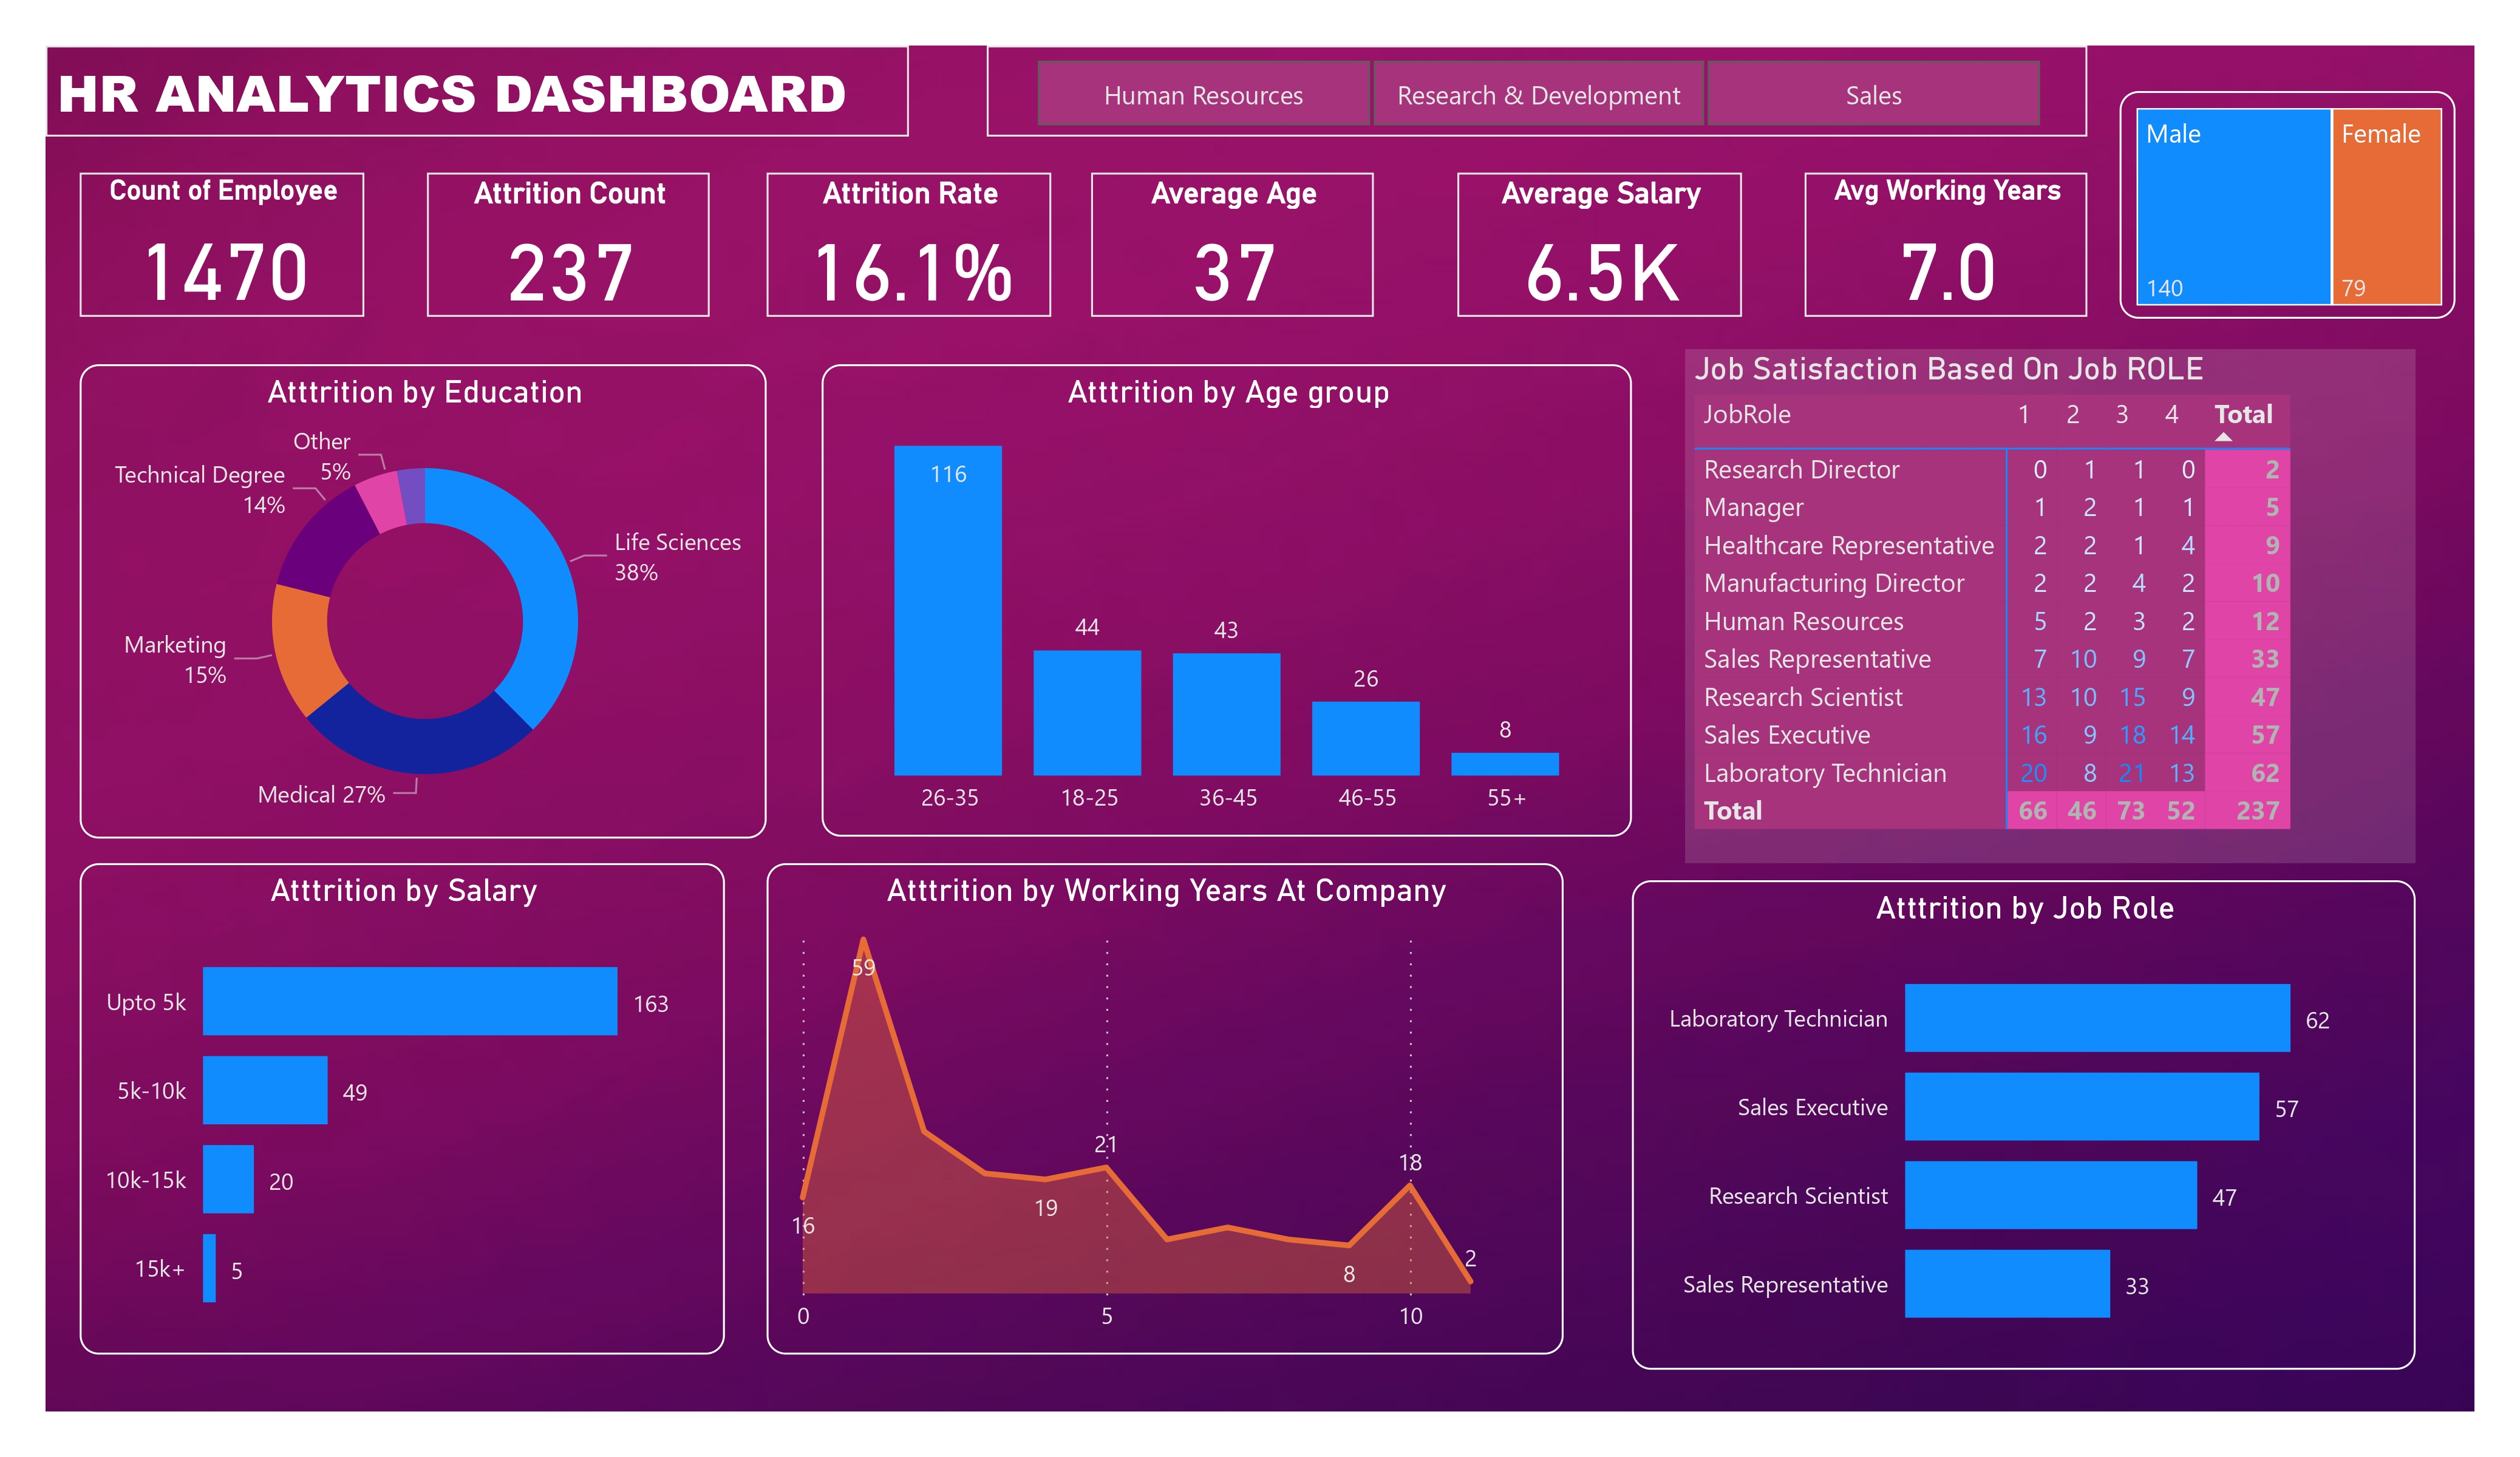

This screenshot's page, from the dashboard's own definition file:
{"tool":"powerbi","page":{"name":"Analytics Dashboard","canvas":[1280,720],"ordinal":0},"visuals":[{"type":"card","title":"Count Of Employee","fields":{"Values":["Measure Table.Total emp count"]},"box":[28.6,60,150,74.3],"z":0},{"type":"card","title":"Total Attrition","fields":{"Values":["Measure Table.yes attrition"]},"box":[205.1,60,150,74.3],"z":1000},{"type":"card","title":"Attrition Rate","fields":{"Values":["Measure Table.Attrition Rate"]},"box":[381.7,60,150,74.3],"z":2000},{"type":"card","title":"Avg Age","fields":{"Values":["Measure Table.emp avg age"]},"box":[558.3,60,151.4,74.3],"z":3000},{"type":"card","title":"Avg Salary","fields":{"Values":["Measure Table.emp avg salary"]},"box":[736.3,60,151.4,74.3],"z":4000},{"type":"card","title":"Avg Retention Year","fields":{"Values":["Measure Table.work year avg"]},"box":[914.3,60,150,74.3],"z":5000},{"type":"donutChart","title":"Attrition By Education","fields":{"Category":["HR_Analytics.EducationField"],"Y":["Measure Table.yes attrition"]},"box":[28.6,167.1,338.6,244.3],"z":6000},{"type":"clusteredColumnChart","title":"Attrition By Age","fields":{"Category":["HR_Analytics.AgeGroup"],"Y":["Measure Table.yes attrition"]},"box":[922.9,167.1,338.6,244.3],"z":7000},{"type":"pivotTable","title":"Job satisfaction by Attrition","fields":{"Rows":["HR_Analytics.JobRole"],"Columns":["HR_Analytics.JobSatisfaction"],"Values":["Sum(HR_Analytics.AttritionCount)"]},"box":[408.6,167.1,468.6,244.3],"z":8000},{"type":"barChart","title":"Attrition on Salary Slab","fields":{"Category":["HR_Analytics.SalarySlab"],"Y":["Sum(HR_Analytics.AttritionCount)"]},"box":[28.6,458.6,338.6,244.3],"z":9000},{"type":"areaChart","title":"Attrition By Years of Experience","fields":{"Category":["HR_Analytics.YearsAtCompany"],"Y":["Sum(HR_Analytics.AttritionCount)"]},"box":[408.6,458.6,468.6,244.3],"z":10000},{"type":"barChart","title":"Attrition By Job Role","fields":{"Y":["Sum(HR_Analytics.AttritionCount)"],"Category":["HR_Analytics.JobRole"]},"box":[918.6,458.6,347.1,244.3],"z":11000},{"type":"treemap","title":"Attrition By Gender","fields":{"Group":["HR_Analytics.Gender"],"Values":["Sum(HR_Analytics.AttritionCount)"]},"box":[1082.9,15.7,178.6,118.6],"z":12000},{"type":"slicer","fields":{"Values":["HR_Analytics.Department"]},"box":[522.9,0,560,54.3],"z":13000},{"type":"textbox","box":[41.4,0,474.3,75.7],"z":14000}]}

Visuals, with their boxes in screenshot pixels (x1, y1, x2, y2):
"Count Of Employee" card: {"x1": 100, "y1": 159, "x2": 384, "y2": 301}
"Total Attrition" card: {"x1": 435, "y1": 159, "x2": 720, "y2": 301}
"Attrition Rate" card: {"x1": 770, "y1": 159, "x2": 1055, "y2": 301}
"Avg Age" card: {"x1": 1105, "y1": 159, "x2": 1392, "y2": 301}
"Avg Salary" card: {"x1": 1443, "y1": 159, "x2": 1730, "y2": 301}
"Avg Retention Year" card: {"x1": 1780, "y1": 159, "x2": 2065, "y2": 301}
"Attrition By Education" donutChart: {"x1": 100, "y1": 362, "x2": 743, "y2": 826}
"Attrition By Age" clusteredColumnChart: {"x1": 1797, "y1": 362, "x2": 2439, "y2": 826}
"Job satisfaction by Attrition" pivotTable: {"x1": 821, "y1": 362, "x2": 1710, "y2": 826}
"Attrition on Salary Slab" barChart: {"x1": 100, "y1": 915, "x2": 743, "y2": 1379}
"Attrition By Years of Experience" areaChart: {"x1": 821, "y1": 915, "x2": 1710, "y2": 1379}
"Attrition By Job Role" barChart: {"x1": 1789, "y1": 915, "x2": 2447, "y2": 1379}
"Attrition By Gender" treemap: {"x1": 2100, "y1": 75, "x2": 2439, "y2": 301}
slicer - HR_Analytics.Department: {"x1": 1038, "y1": 46, "x2": 2100, "y2": 149}
textbox: {"x1": 124, "y1": 46, "x2": 1024, "y2": 189}
